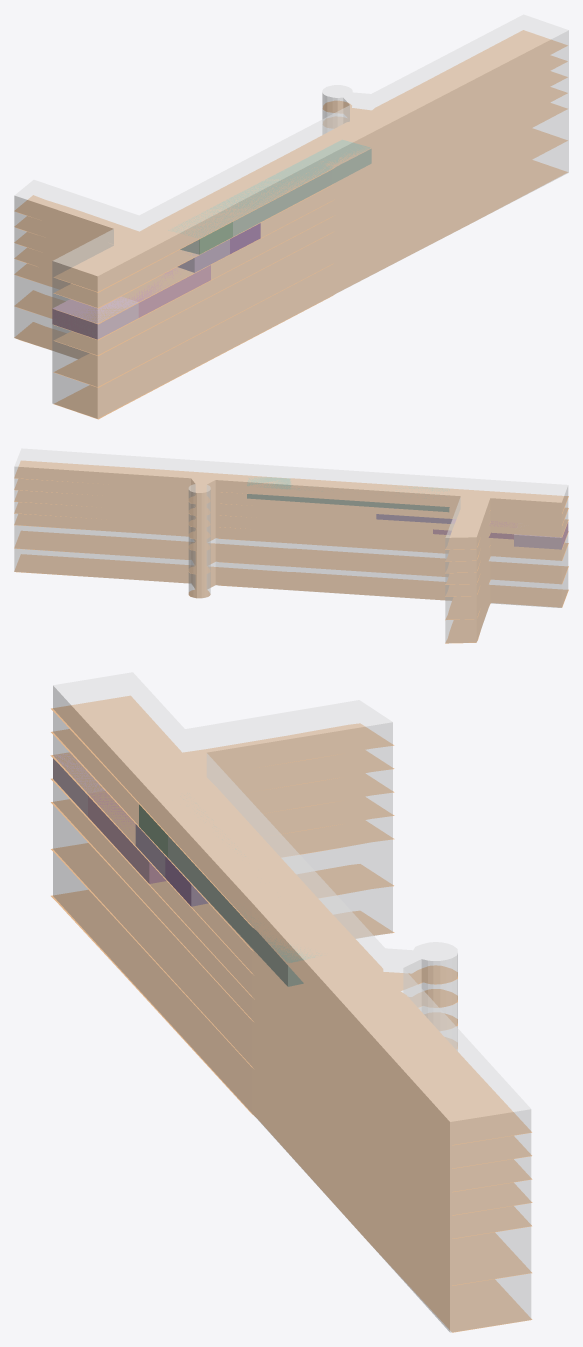
3 views of the same model, one above another, from view 1: azimuth 30°, elevation 25°; view 2: azimuth 150°, elevation 25°; view 3: azimuth 270°, elevation 25° (orthographic). The views are drawn at different scales.
Parts seen in each view (by area): view 1: EdificaçõesUFBA poli, Oitavo_piso, Terceiro_piso, Segundo_piso, Quarto_piso, Sexto_piso, Sétimo_piso, Biblioteca, Quinto_piso, Auditorio_quinto_andar, CEAG, DETG; view 2: EdificaçõesUFBA poli, Oitavo_piso, Terceiro_piso, Segundo_piso, Quarto_piso, Sexto_piso, Quinto_piso, Sétimo_piso, Biblioteca, Auditorio_quinto_andar, DETG, CEAG; view 3: EdificaçõesUFBA poli, Oitavo_piso, Segundo_piso, Terceiro_piso, Quarto_piso, Sexto_piso, Sétimo_piso, Quinto_piso, Biblioteca, CEAG, DETG, Auditorio_quinto_andar.
Part boxes in pixels (x1,y1,x2,y2): EdificaçõesUFBA poli: [14, 14, 568, 418]; Oitavo_piso: [14, 30, 567, 292]; Terceiro_piso: [14, 160, 567, 419]; Segundo_piso: [14, 128, 567, 387]; Quarto_piso: [14, 102, 567, 355]; Sexto_piso: [14, 71, 567, 324]; Sétimo_piso: [14, 55, 567, 308]; Biblioteca: [168, 139, 371, 254]; Quinto_piso: [14, 87, 567, 340]; Auditorio_quinto_andar: [52, 296, 138, 339]; CEAG: [129, 265, 210, 317]; DETG: [178, 223, 260, 272]; EdificaçõesUFBA poli: [14, 448, 568, 643]; Oitavo_piso: [14, 460, 568, 549]; Terceiro_piso: [14, 554, 568, 643]; Segundo_piso: [14, 530, 568, 620]; Quarto_piso: [14, 514, 568, 596]; Sexto_piso: [14, 490, 568, 573]; Quinto_piso: [14, 502, 568, 584]; Sétimo_piso: [14, 478, 568, 561]; Biblioteca: [247, 477, 449, 512]; Auditorio_quinto_andar: [514, 522, 568, 549]; DETG: [376, 514, 452, 523]; CEAG: [433, 519, 516, 539]; EdificaçõesUFBA poli: [53, 672, 531, 1332]; Oitavo_piso: [51, 695, 531, 1145]; Segundo_piso: [51, 843, 531, 1285]; Terceiro_piso: [51, 890, 532, 1332]; Quarto_piso: [51, 799, 531, 1238]; Sexto_piso: [50, 752, 532, 1192]; Sétimo_piso: [51, 729, 531, 1168]; Quinto_piso: [51, 778, 532, 1215]; Biblioteca: [139, 799, 321, 986]; CEAG: [88, 791, 166, 883]; DETG: [135, 824, 207, 906]; Auditorio_quinto_andar: [53, 753, 104, 816].
Size of what is drawn, in the model's own units: 186 by 40.5 by 84.
